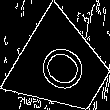O_SE: (31, 36, 94, 99)
